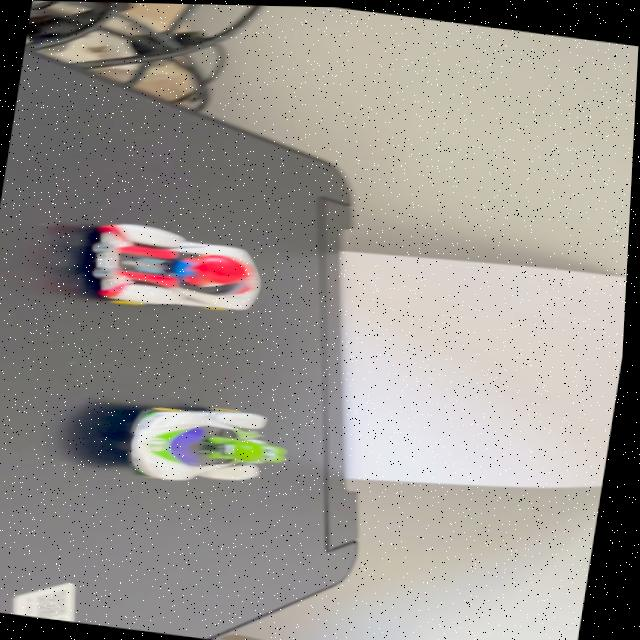mario: (73, 215, 281, 329)
yoshi: (109, 385, 309, 501)
